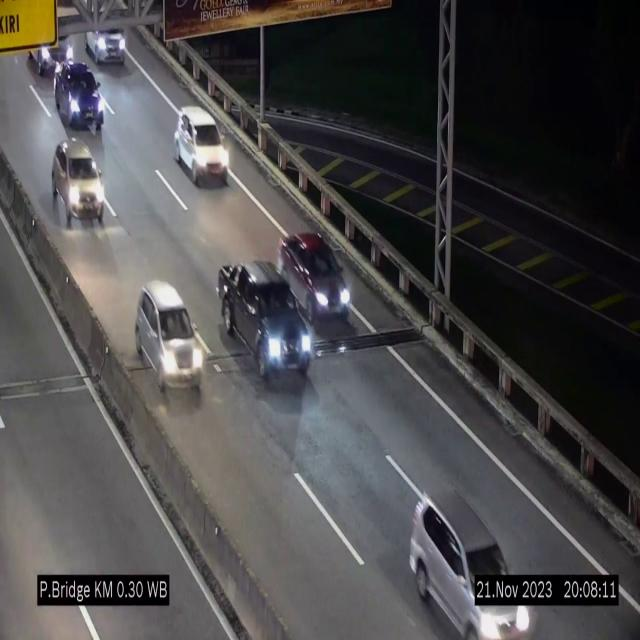Car: (400, 484, 534, 640), (212, 260, 311, 384), (135, 282, 203, 393), (278, 232, 352, 333), (53, 140, 107, 232), (174, 106, 230, 186), (22, 7, 80, 81), (53, 61, 109, 137), (81, 2, 126, 71)
